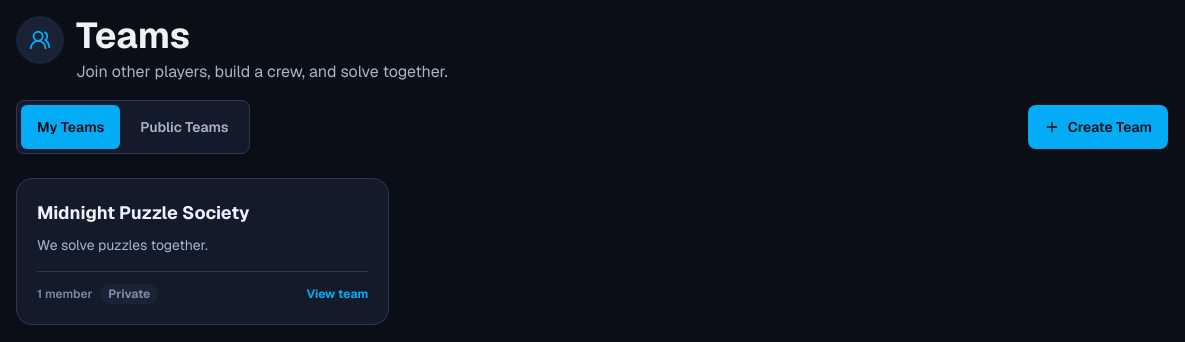
Test: Teams hub page — normalization › 21. malformed Team rows are dropped; 22. malformed member rows are dropped
Click the button with test id "teams-hub-view-public": (184,127) [124,105,244,149]
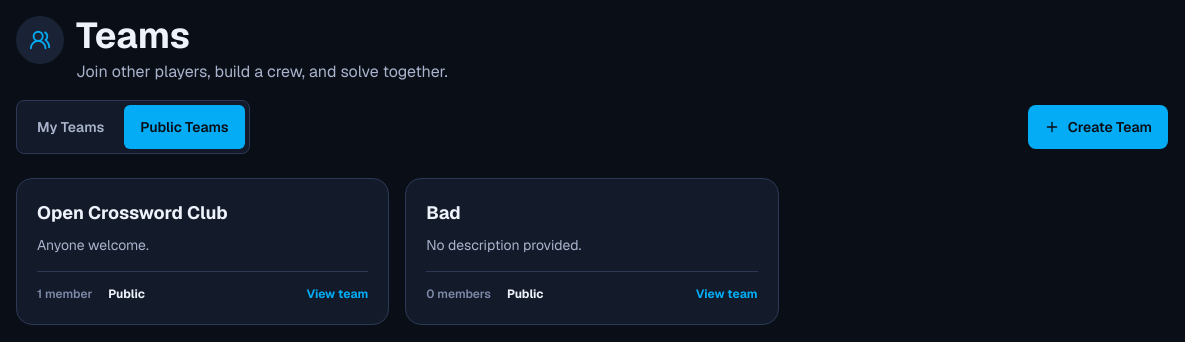
Expected: the heading "Open Crossword Club" is shown, [37,201,228,224]
Expected: the heading "Bad" is shown, [426,201,461,224]
